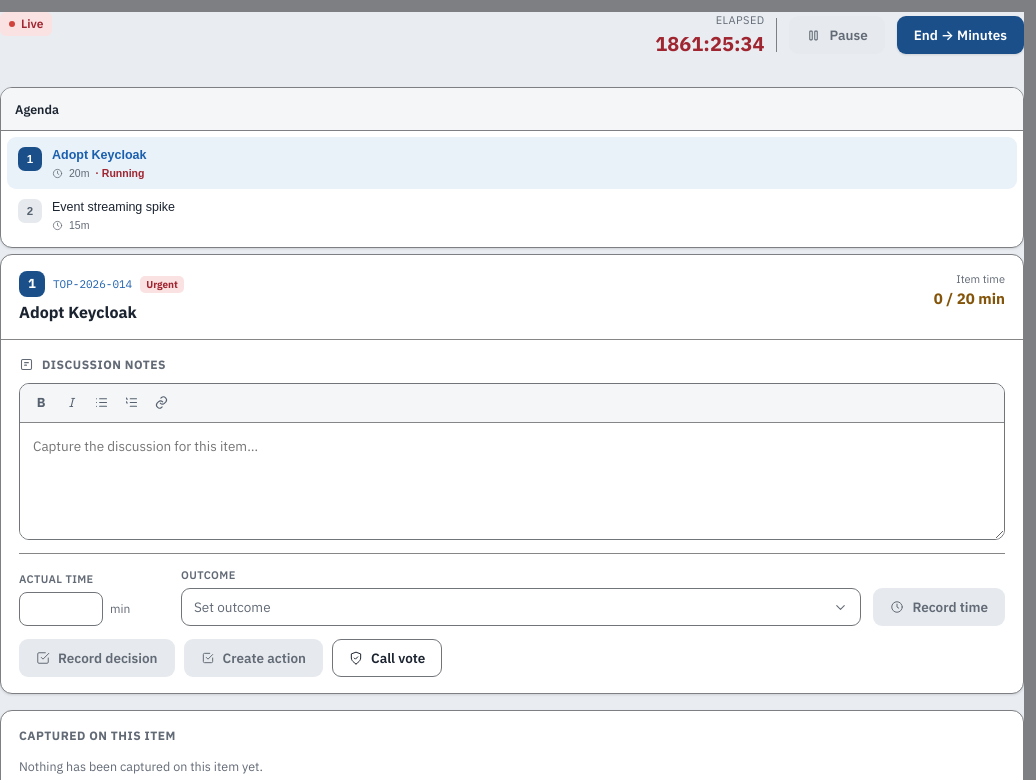
Scenario: MeetingWorkspace (P6d) › disables Record time until a valid minutes value is entered (DV-16)
Expected: the button "Record time" is disabled, [873,588,1005,626]
In the number field labelled "Actual time": (61, 609) [19,592,103,626], type "5"
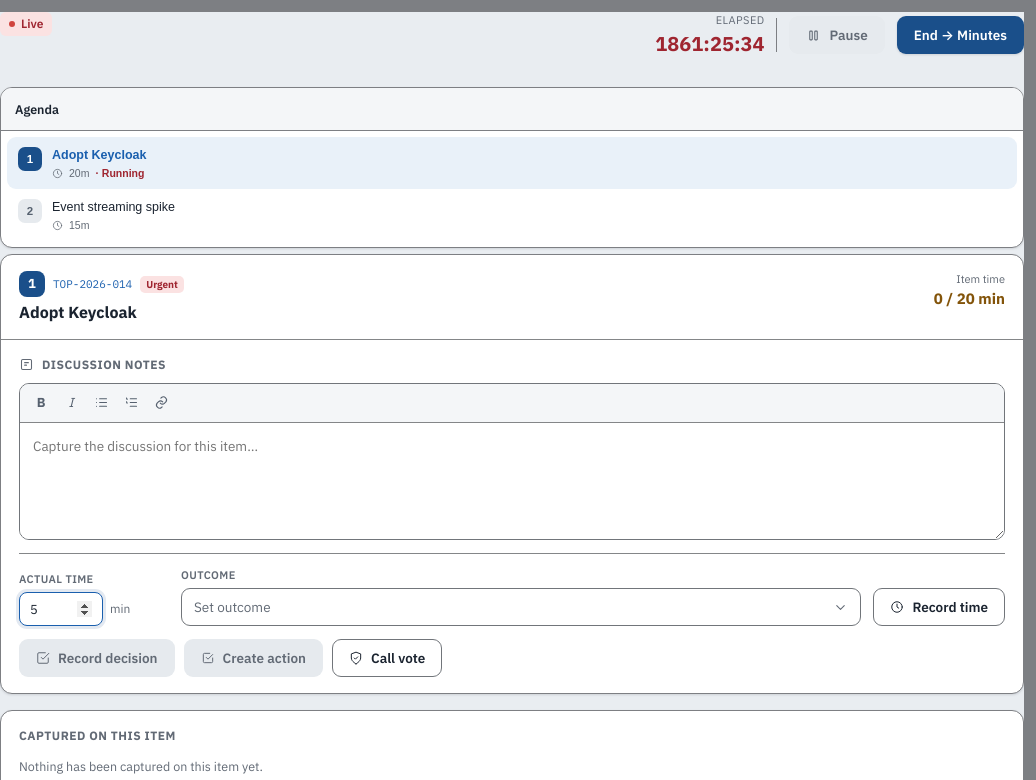
Expected: the button "Record time" is enabled, [873,588,1005,626]
